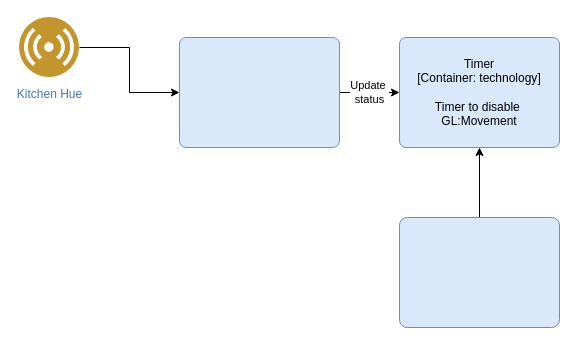
This 577x345 diagram has some shape labels left out. Each missing label, with the centre of its shape:
Sensor [Container: technology ] Ghost detectie to set GL:Movement (bool): point 259,92
Timer influencer [Component: technology ] condities welke de timer beinvloeden: point 479,272
